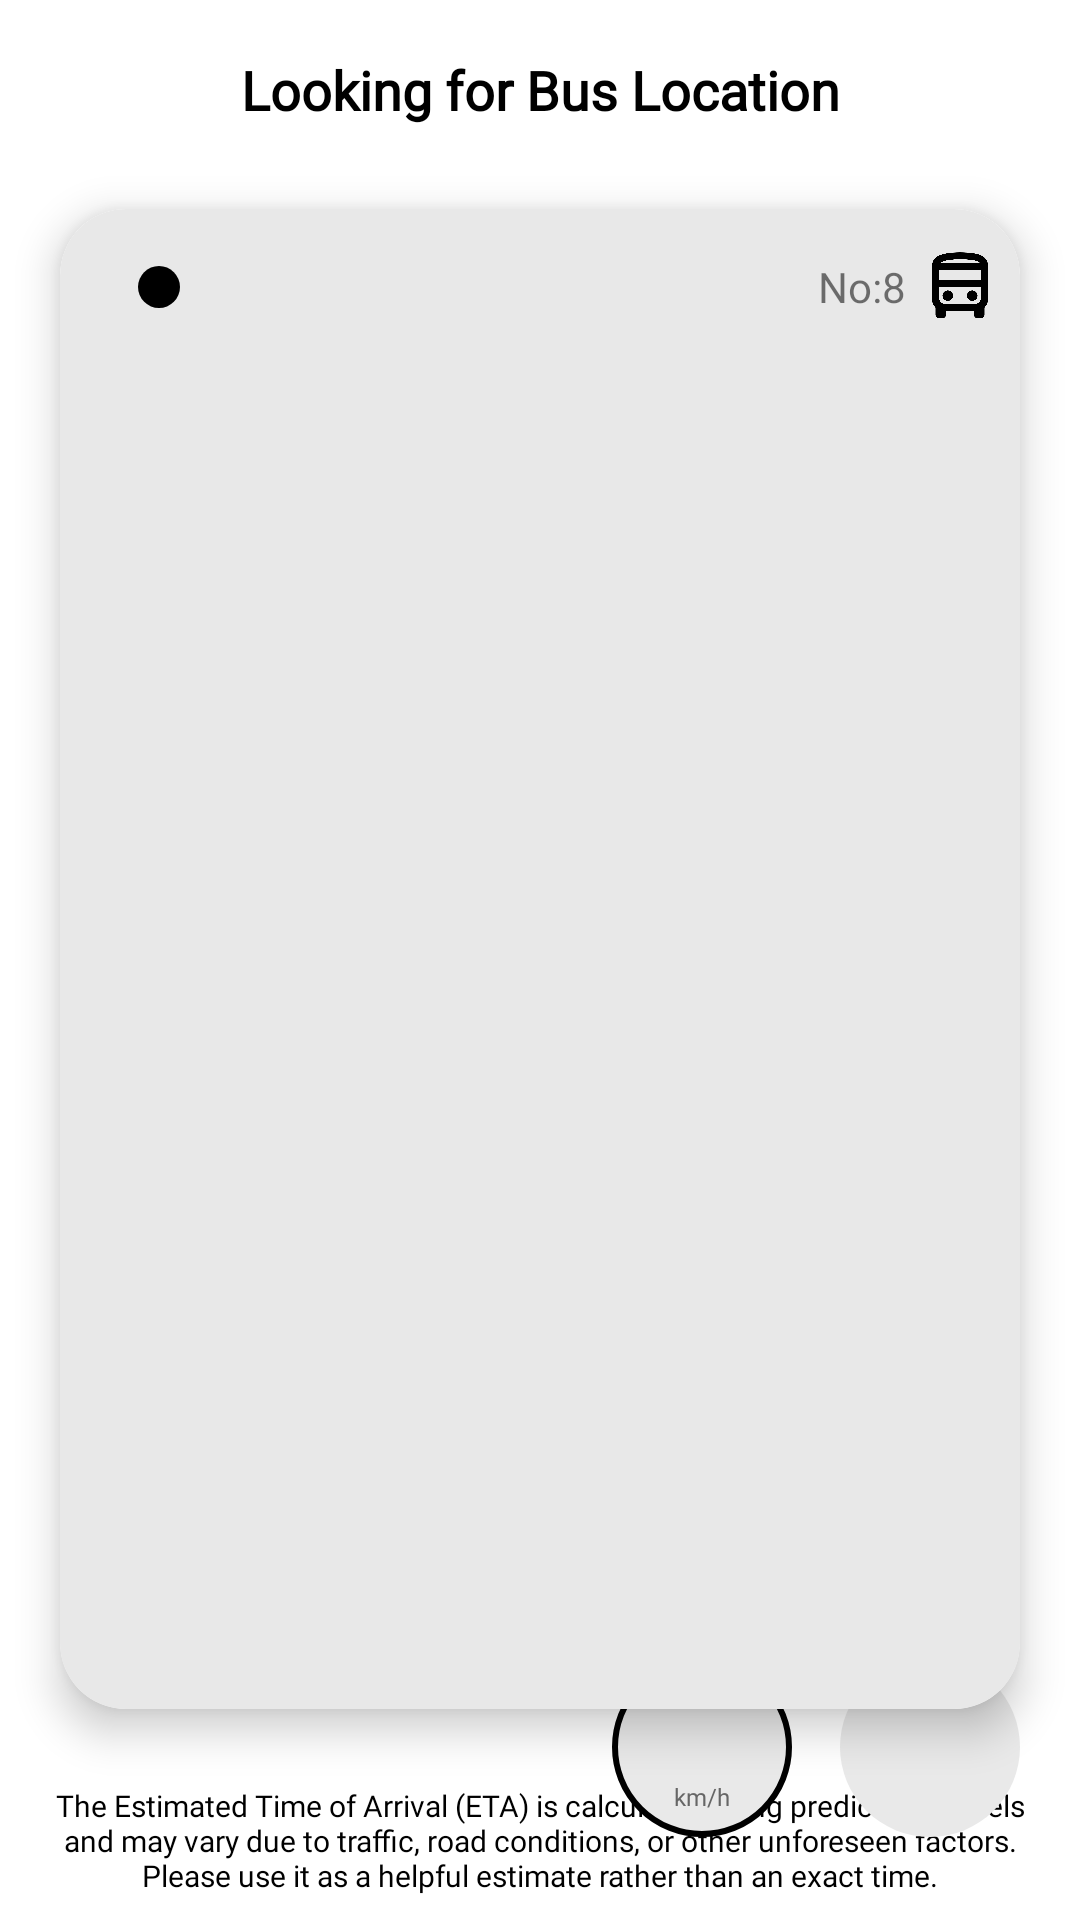

Icon bounding boxes for this 1080*1920 phone screenshot, format bbox=(x1, y1, x2, y2):
directionsbus: bbox=(932, 252, 988, 318)
